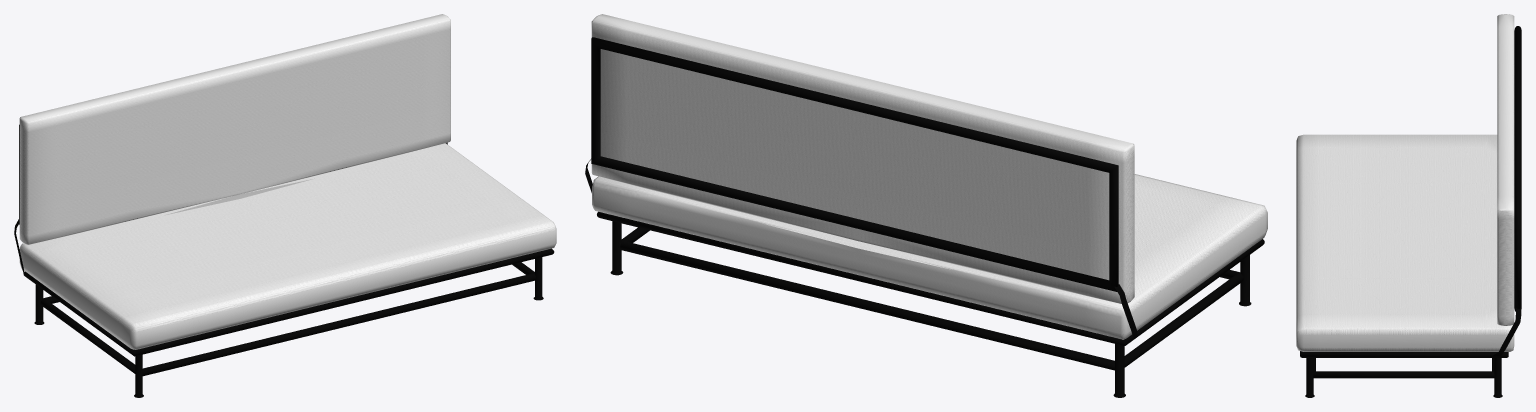
Rendered from IKEA-Exarby_3_Seats_Sofa-3D.FBX.
The picture shows the model from 3 angles, left to right: view 1: azimuth 30°, elevation 25°; view 2: azimuth 150°, elevation 25°; view 3: azimuth 270°, elevation 25°; orthographic projection. The views are drawn at different scales.
Parts seen in each view (by area): view 1: Box01; view 2: Box01; view 3: Box01.
Boxes of the visible parts, x1,y1,x2,y2 form: Box01: (14,14,556,397); Box01: (585,14,1267,397); Box01: (1296,14,1521,397).
Size of the model in its own units: 1.82 by 0.8786 by 0.8282.
Materials: 2 (1 with a texture image).
